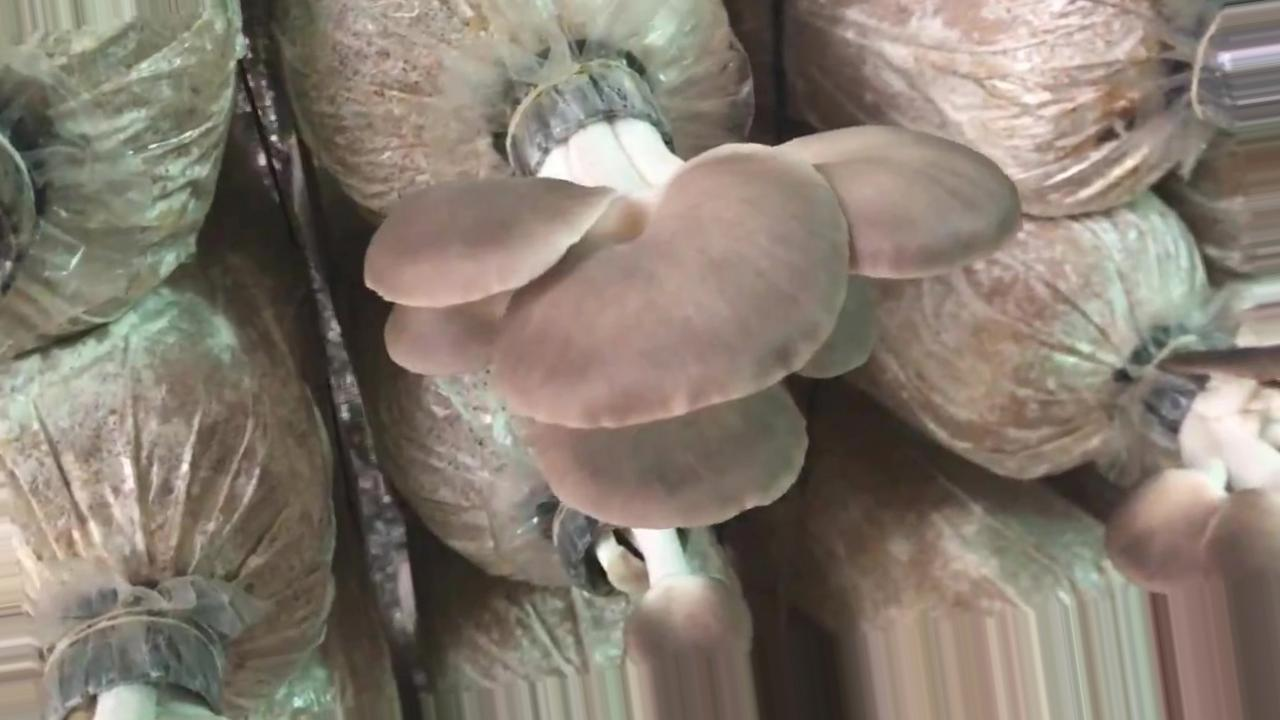nam: (365, 73, 1020, 527), (1106, 330, 1278, 720), (551, 499, 752, 720)
